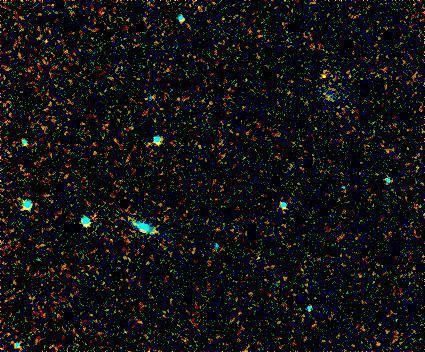star: (306, 57, 336, 87)
